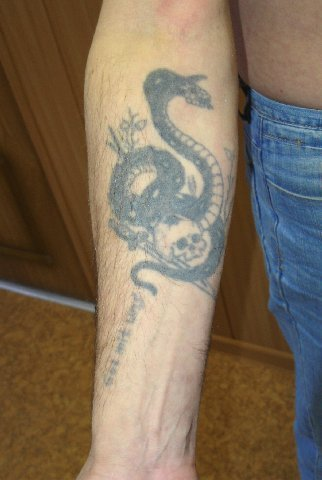tatu7_zmeya: (119, 57, 232, 304)
